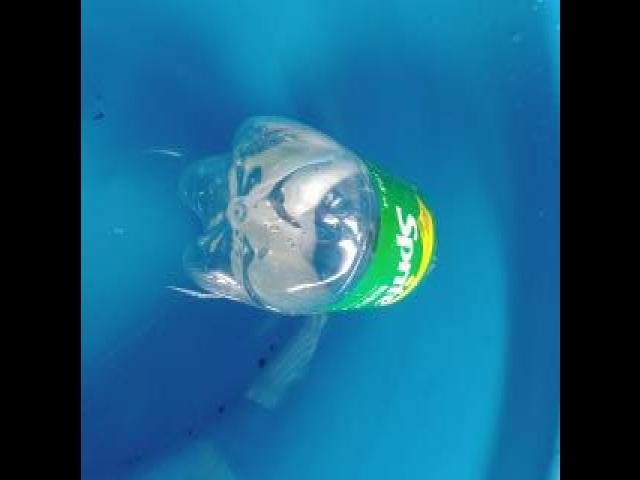Bottle: (172, 107, 446, 328)
